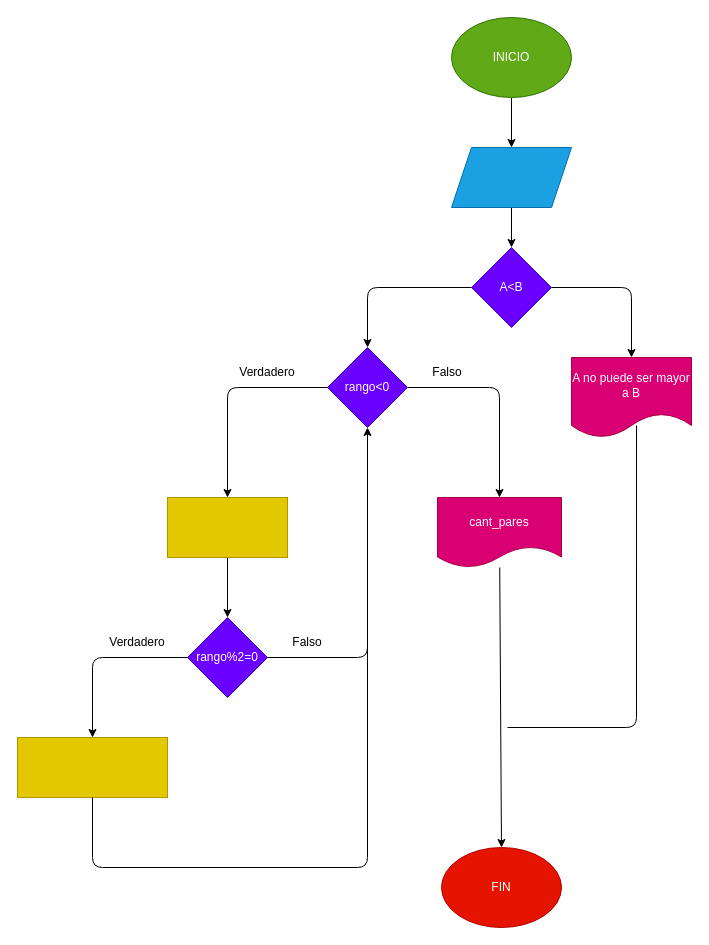
Image size: 709x945. Some labels were removed from this diagram. Each missing label, with the centre of its shape:
A,B cant_pares=0 rango=A: the point at 511,177
cant_pares=cant_pares+1: the point at 92,767
rango=rango+1: the point at 227,527
